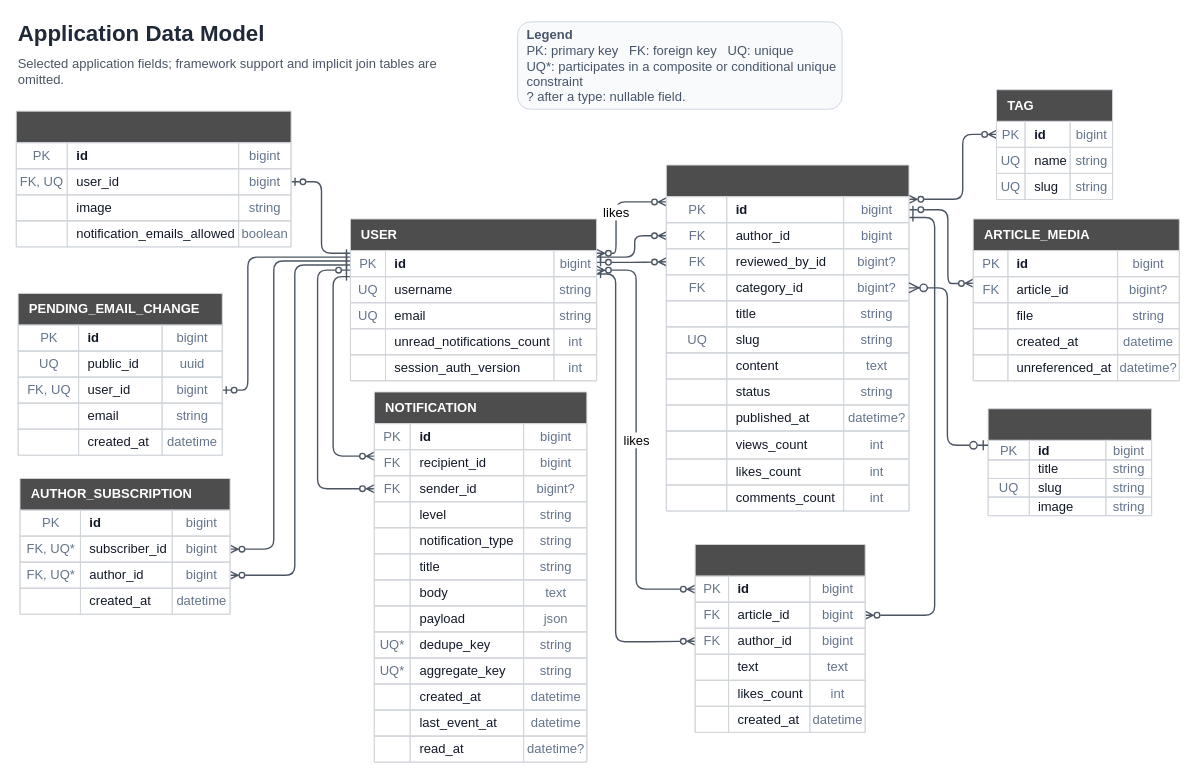
Image size: 1196x778. Some labels were removed from this diagram. Each missing label, with the box of its shape:
ARTICLE: (665, 164, 909, 511)
ARTICLE_CATEGORY: (987, 408, 1152, 516)
ARTICLE_COMMENT: (694, 544, 865, 732)
PROFILE: (15, 110, 291, 247)
